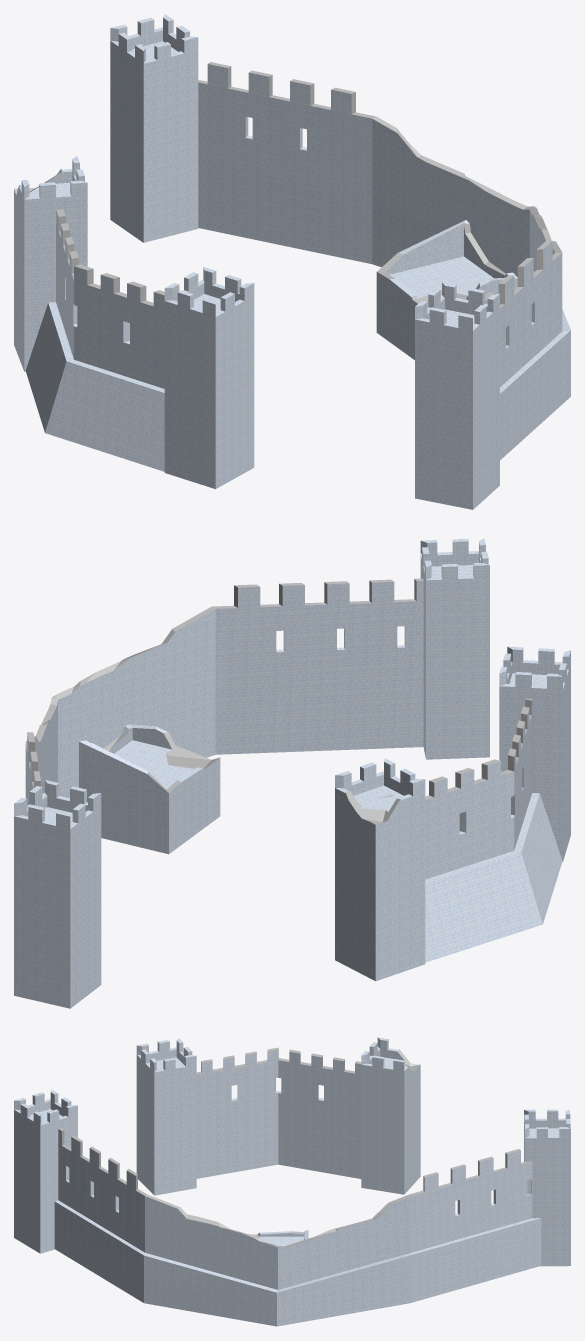
The model's file is CastleTopPart.fbx.
The picture shows the model from 3 angles, top to bottom: view 1: azimuth 30°, elevation 25°; view 2: azimuth 150°, elevation 25°; view 3: azimuth 270°, elevation 25°; orthographic projection. The views are drawn at different scales.
Parts seen in each view (by area): view 1: Pipe.021; view 2: Pipe.021; view 3: Pipe.021.
Part boxes in pixels (<box>): Pipe.021: <box>14,14,570,509</box>; Pipe.021: <box>14,538,570,1008</box>; Pipe.021: <box>14,1037,570,1326</box>.
Size of the model in its own units: 4386 by 1612 by 5925.
